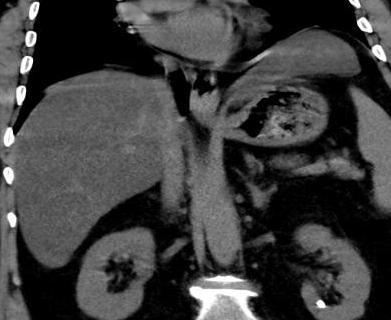Tas_Var: (314, 298, 328, 310)
